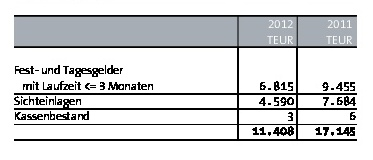table: (0, 0, 373, 160)
